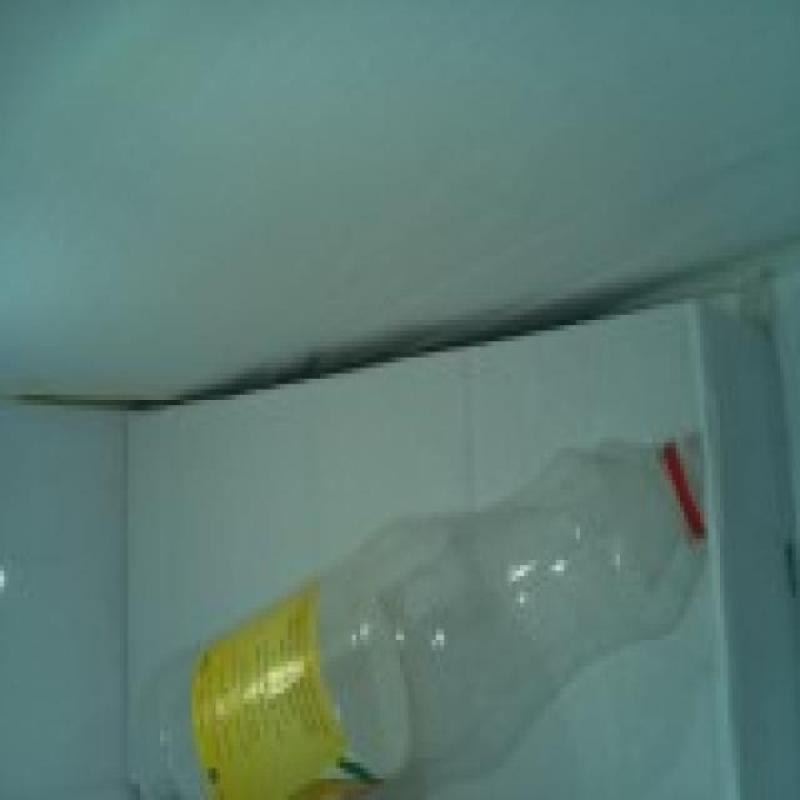botella: (124, 431, 705, 800)
